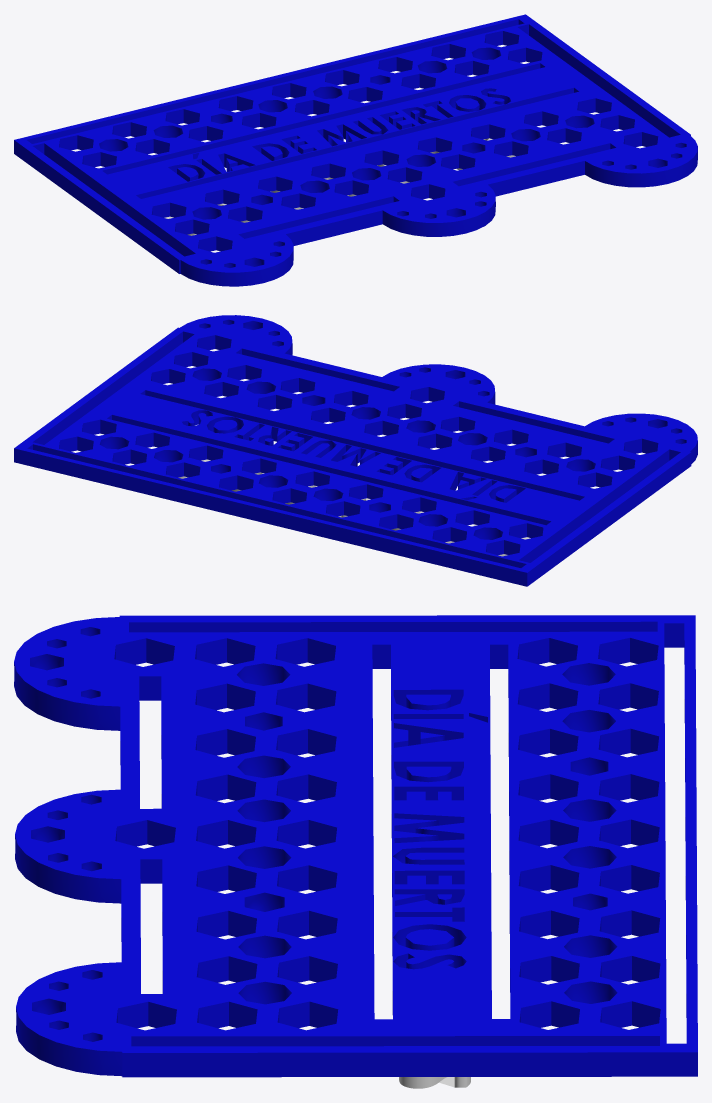
File: papel picado.fbx
3 renders of one model, top to bottom at view 1: azimuth 30°, elevation 25°; view 2: azimuth 150°, elevation 25°; view 3: azimuth 270°, elevation 25°, orthographic. The views are drawn at different scales.
Visible parts, largest first — view 1: Cubo; view 2: Cubo; view 3: Cubo, Texto.
Part boxes in pixels (<box>): Cubo: <box>14,14,697,286</box>; Cubo: <box>14,315,697,586</box>; Cubo: <box>14,615,697,1077</box>; Texto: <box>399,1077,470,1088</box>.
Size of the model in its own units: 2748 by 324 by 1815.
